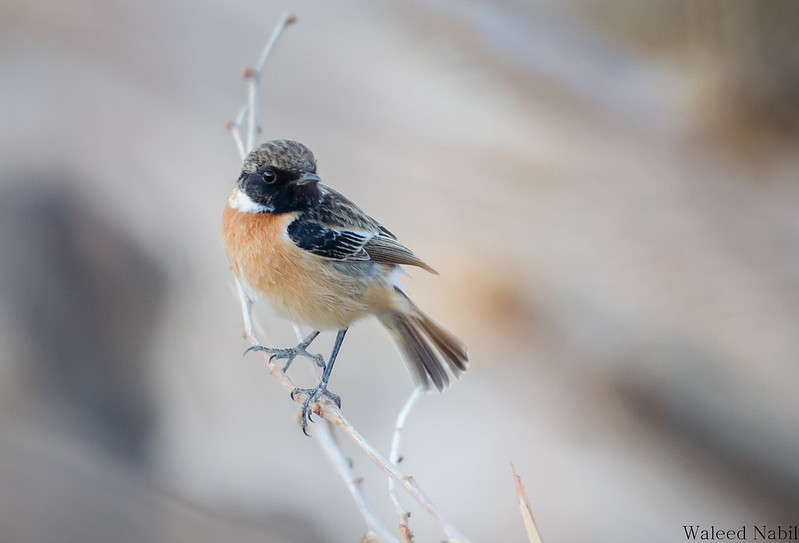bird: (218, 120, 473, 443)
